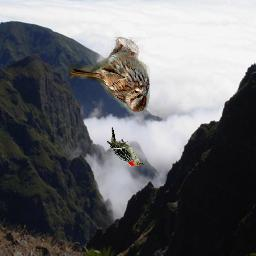Sparrow: (70, 38, 151, 115)
Woodpecker: (108, 128, 145, 167)
